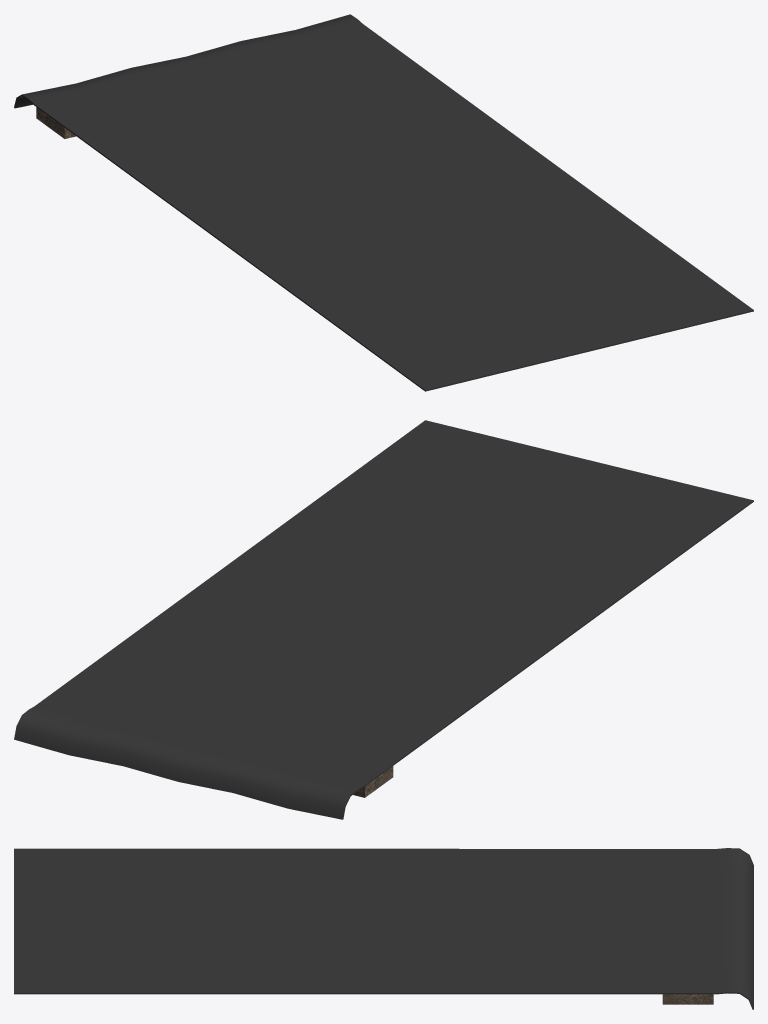
The model's file is SM_Roof01A.FBX.
3 renders of one model, top to bottom at view 1: azimuth 30°, elevation 25°; view 2: azimuth 150°, elevation 25°; view 3: azimuth 270°, elevation 25°, orthographic. The views are drawn at different scales.
Parts seen in each view (by area): view 1: SM_Roof01A_LOD0; view 2: SM_Roof01A_LOD0; view 3: SM_Roof01A_LOD0.
Boxes of the visible parts, x1,y1,x2,y2 form: SM_Roof01A_LOD0: [14, 14, 753, 391]; SM_Roof01A_LOD0: [14, 420, 753, 819]; SM_Roof01A_LOD0: [14, 848, 753, 1009].
Bounding box in the file's own units: 300 × 650 × 19.15.
